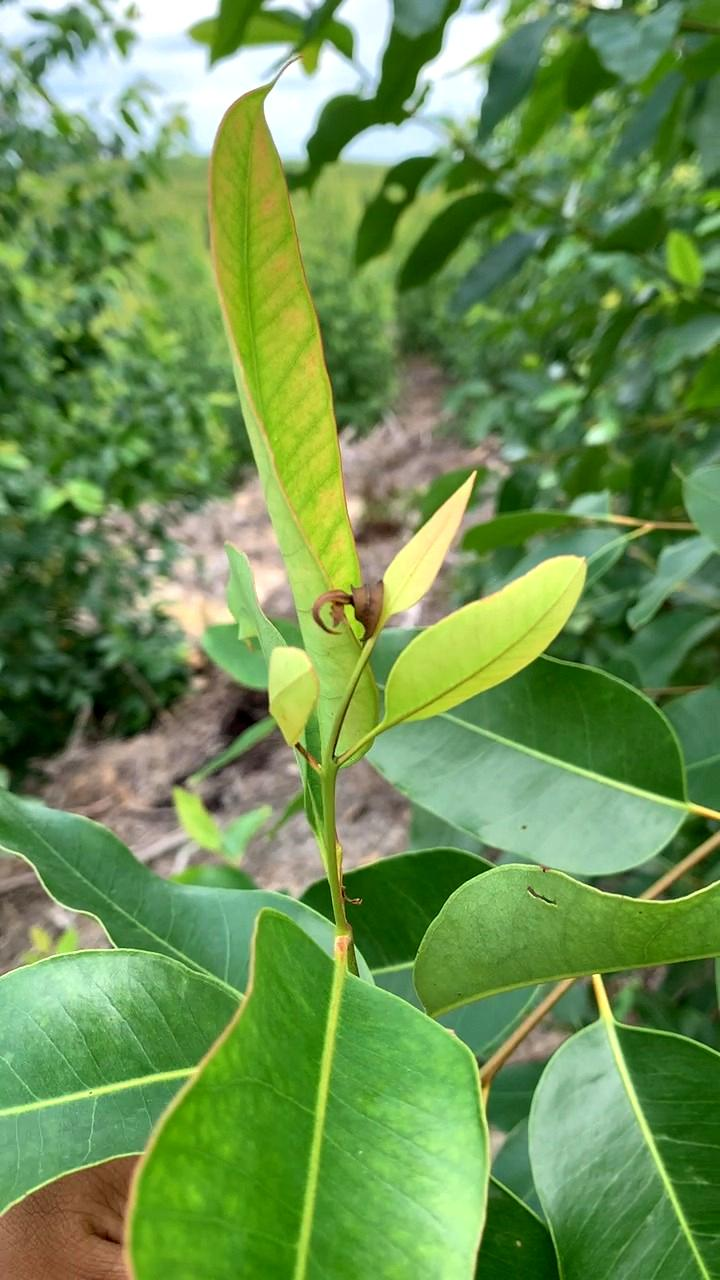Helopeltis-Withered Sprout: (299, 556, 406, 671)
